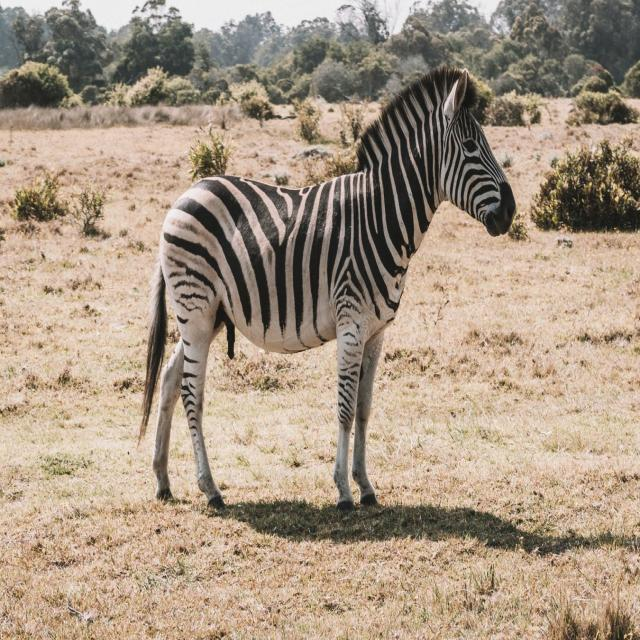zebra: (141, 67, 515, 506)
